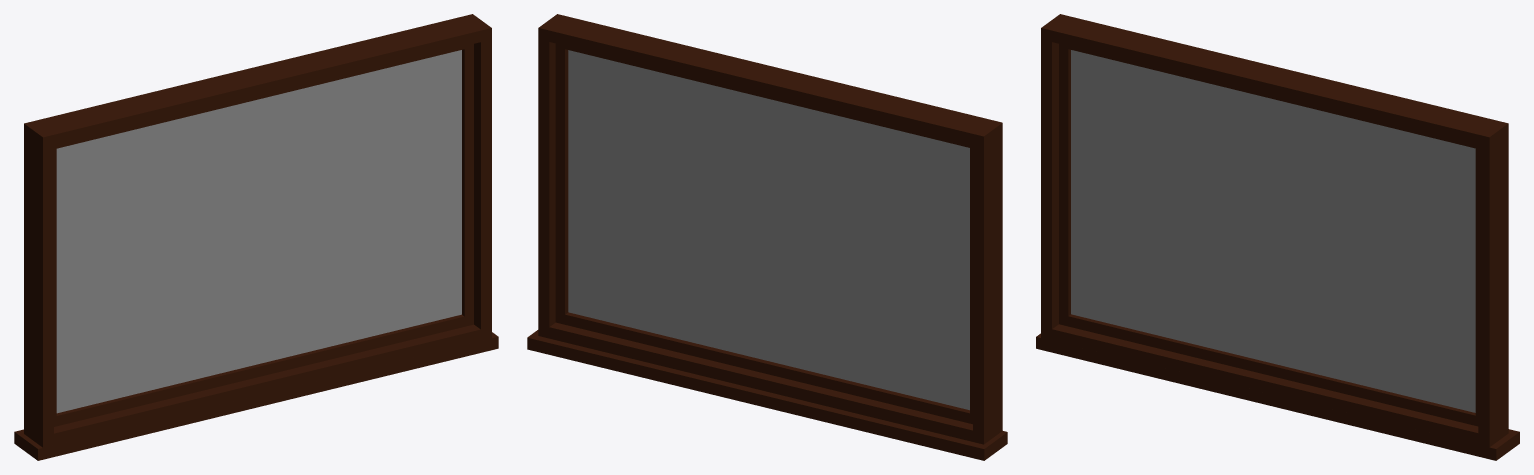
File: window-broken.dae
3 renders of one model, left to right at view 1: azimuth 30°, elevation 25°; view 2: azimuth 150°, elevation 25°; view 3: azimuth 330°, elevation 25°, orthographic.
Visible parts, largest first — view 1: Glass_001, Window_001, Frame_001; view 2: Glass_001, Window_001, Frame_001; view 3: Glass_001, Window_001, Frame_001.
Part boxes in pixels (bbox=[...]): Glass_001: bbox=[56, 50, 461, 413]; Window_001: bbox=[24, 14, 491, 447]; Frame_001: bbox=[14, 332, 498, 460]; Glass_001: bbox=[568, 50, 969, 410]; Window_001: bbox=[538, 14, 1002, 444]; Frame_001: bbox=[527, 330, 1007, 460]; Glass_001: bbox=[1071, 50, 1475, 412]; Window_001: bbox=[1041, 14, 1508, 447]; Frame_001: bbox=[1036, 333, 1519, 460].
Size of the model in its own units: 2 by 1.34 by 0.1779.
